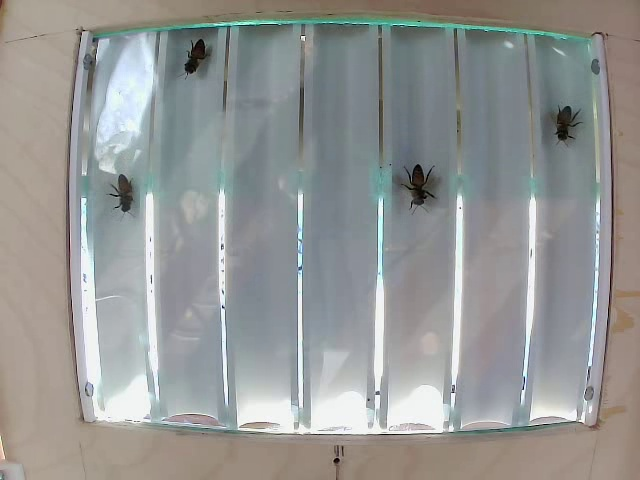bee: (552, 100, 576, 157), (398, 175, 435, 211), (111, 183, 148, 214), (188, 41, 216, 77)
